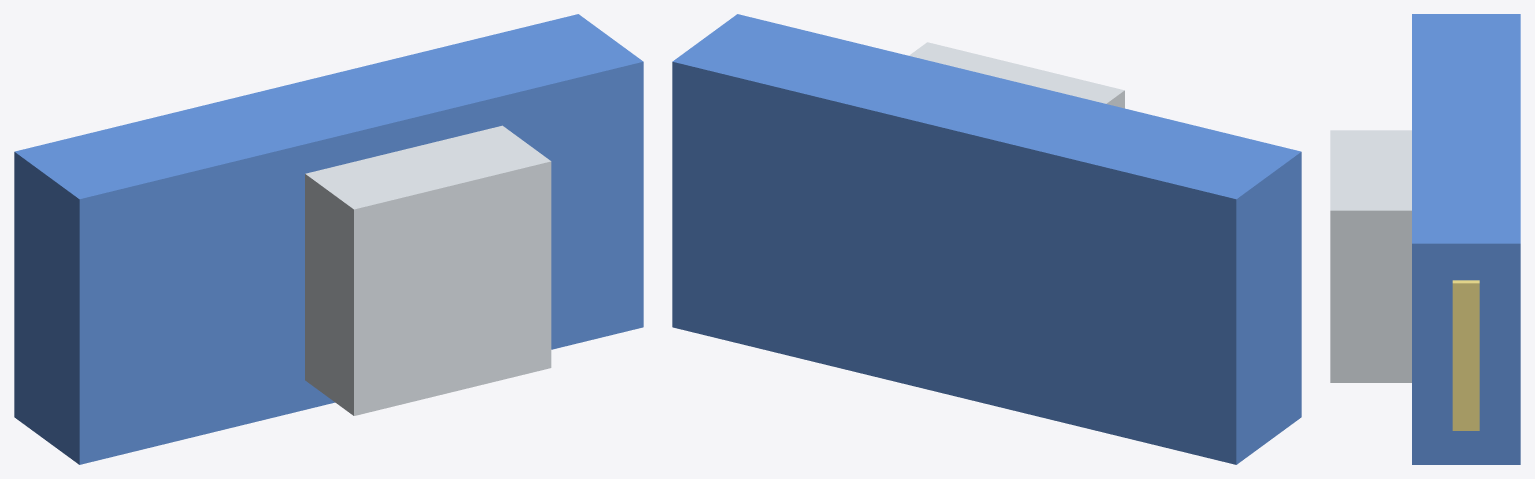
Rendered from misaligned-car.glb.
3 renders of one model, left to right at view 1: azimuth 30°, elevation 25°; view 2: azimuth 150°, elevation 25°; view 3: azimuth 270°, elevation 25°, orthographic. The views are drawn at different scales.
Visible parts, largest first — view 1: car; view 2: car; view 3: car.
Boxes of the visible parts, left/top/right/bottom form: car: left=14, top=14, right=643, bottom=464; car: left=672, top=14, right=1301, bottom=464; car: left=1330, top=14, right=1520, bottom=464.
Size of the model in its own units: 4.05 by 1.8 by 1.4.
